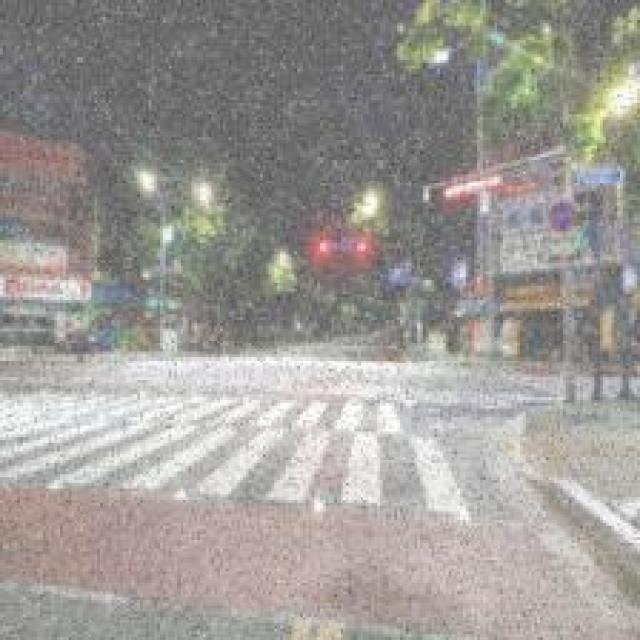walk-crossing: (0, 386, 589, 526), (144, 354, 427, 377)
